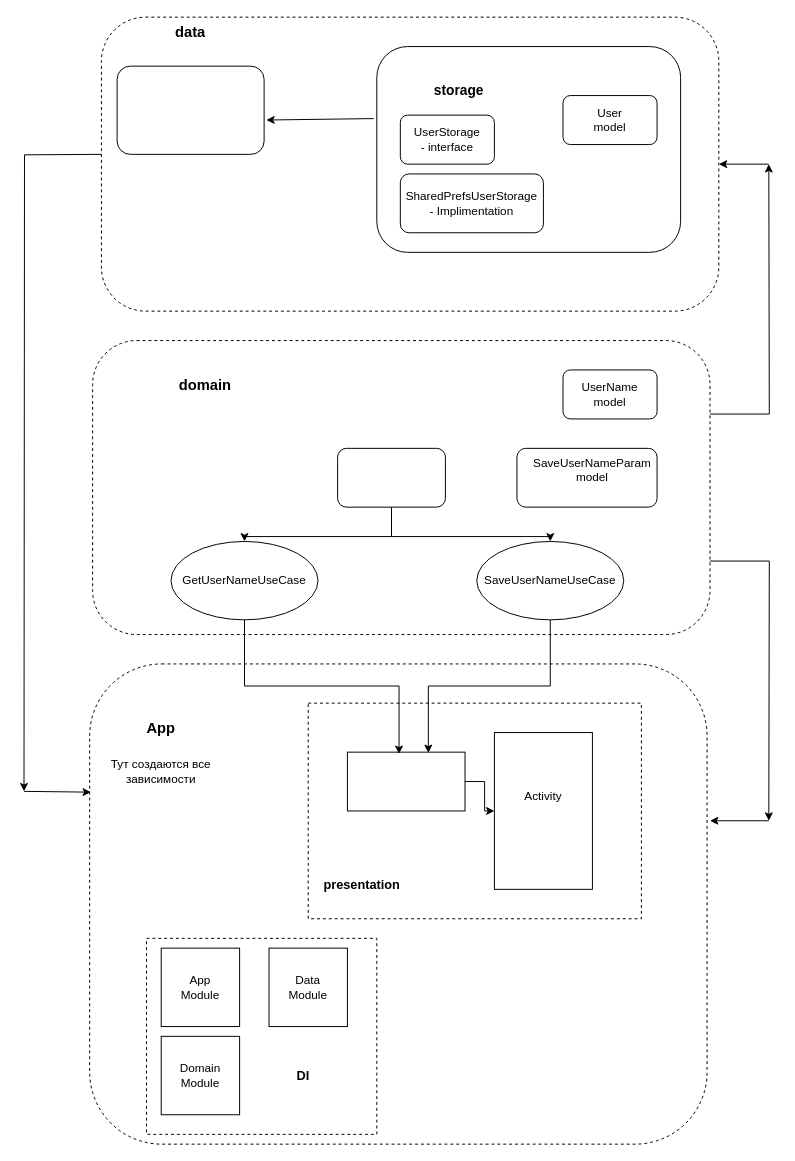
The diagram is 795 pixels wide and 1161 high, and some of its shapes have lost their labels. The centre of each missing label's shape, as x and y in pixels:
"UserRepository - Interface" goes at point (391, 477).
"UserRepositoryImpl - Implimentation" goes at point (190, 109).
"View Model" goes at point (405, 781).
